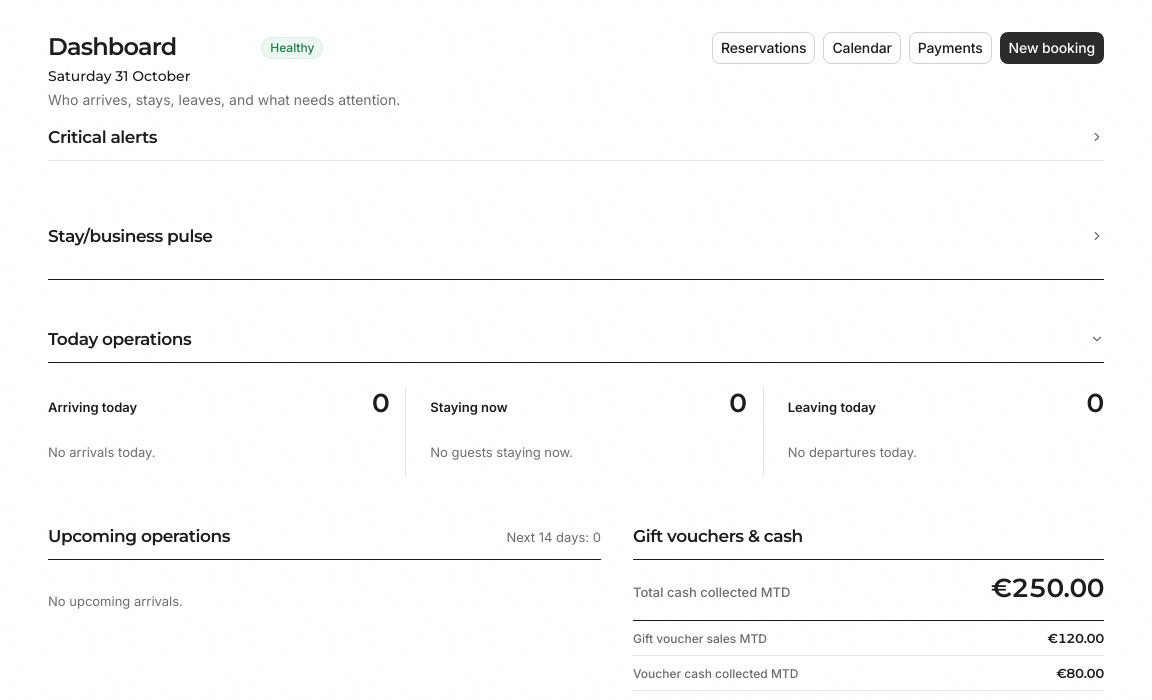
it: OpsDashboard home migration › locks stay/business and voucher/cash pulse values including zeros and money units
The image size is (1152, 700).
Click the button "Critical alerts" at (103, 137), box [48,126,1104,148]
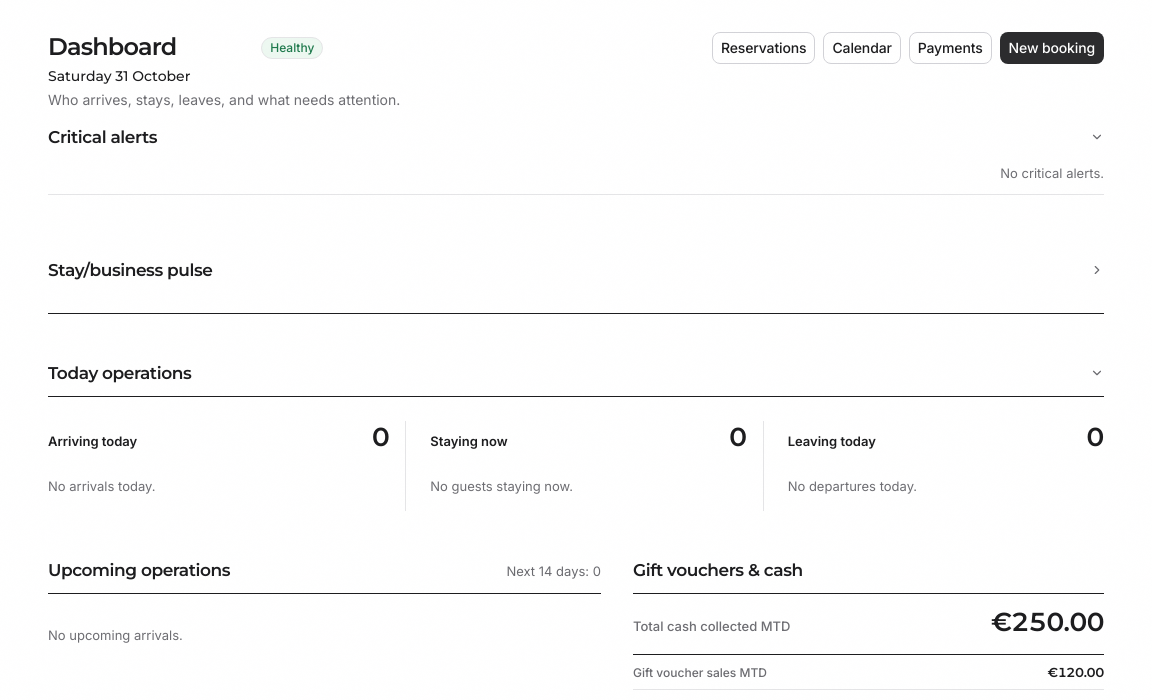
Click the button "Stay/business pulse" at (130, 270), box [48,259,1104,281]
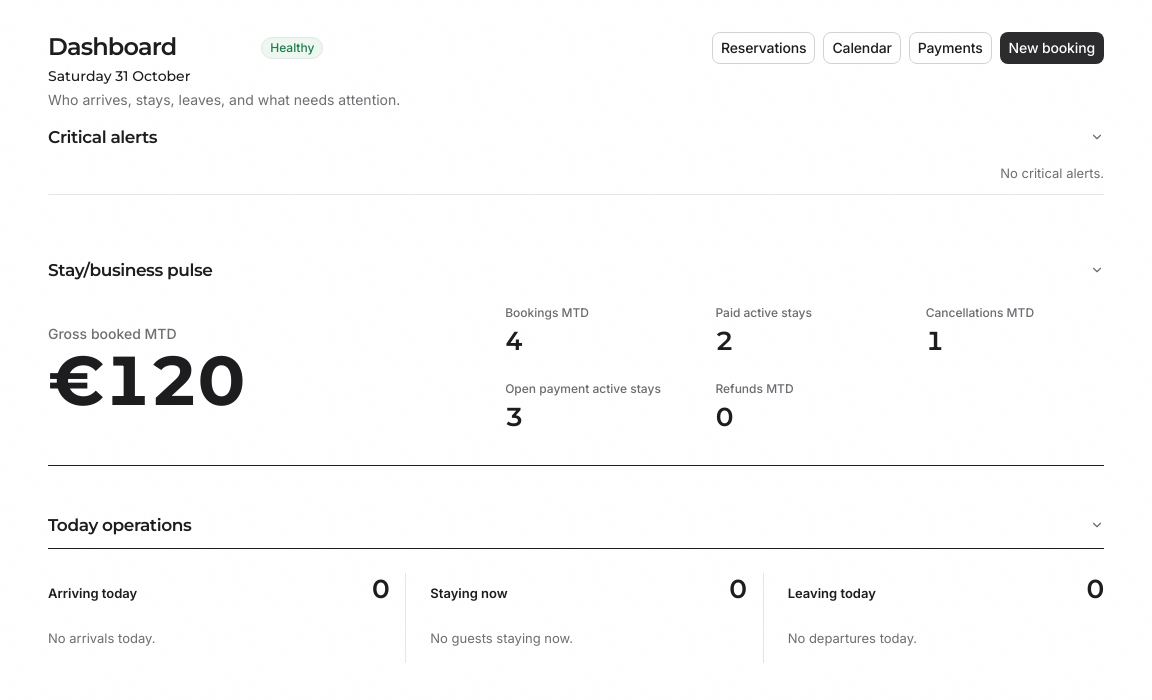
Check: the text "4" is shown, box [505,325,522,357]
Check: the text "€120" is shown, box [48,338,244,422]
Check: the text "2" is shown, box [715,325,733,357]
